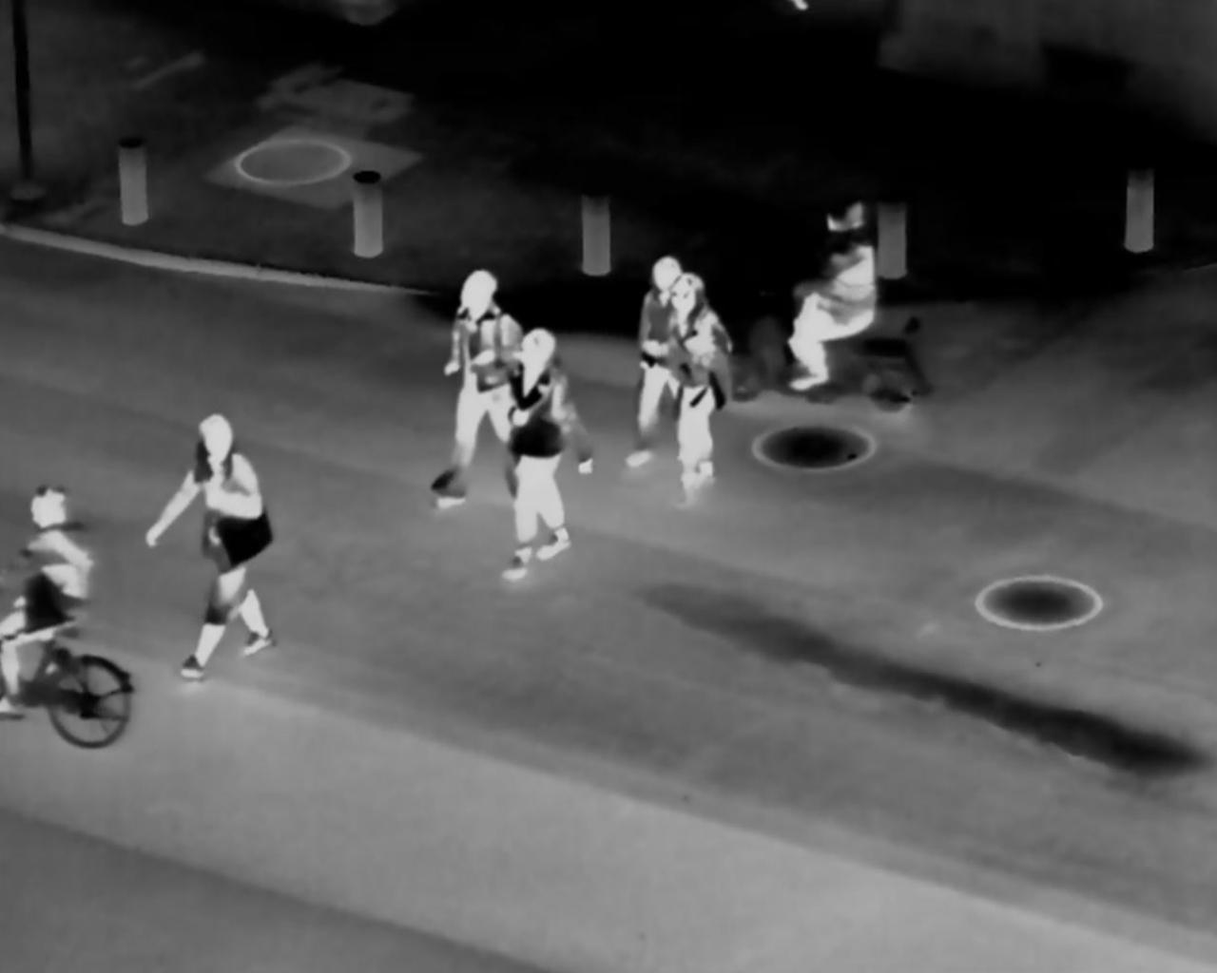person: (143, 407, 286, 677), (482, 326, 595, 579), (432, 261, 530, 526), (780, 198, 886, 410), (5, 486, 94, 721), (651, 268, 732, 509), (621, 235, 699, 467)
